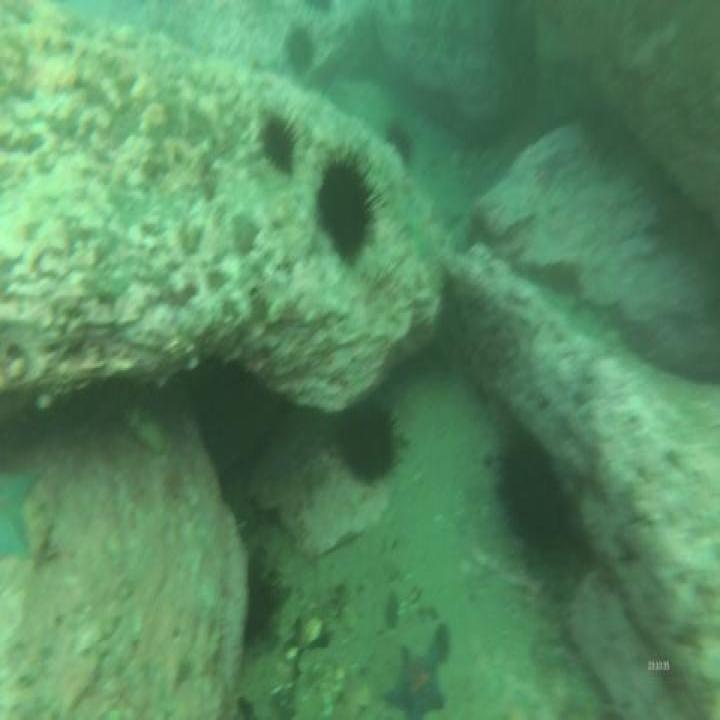echinus: (491, 423, 576, 567), (316, 144, 386, 274), (332, 390, 409, 494), (244, 551, 299, 658), (255, 100, 307, 178), (287, 20, 315, 78)
starfish: (388, 638, 448, 720), (0, 464, 42, 569)
